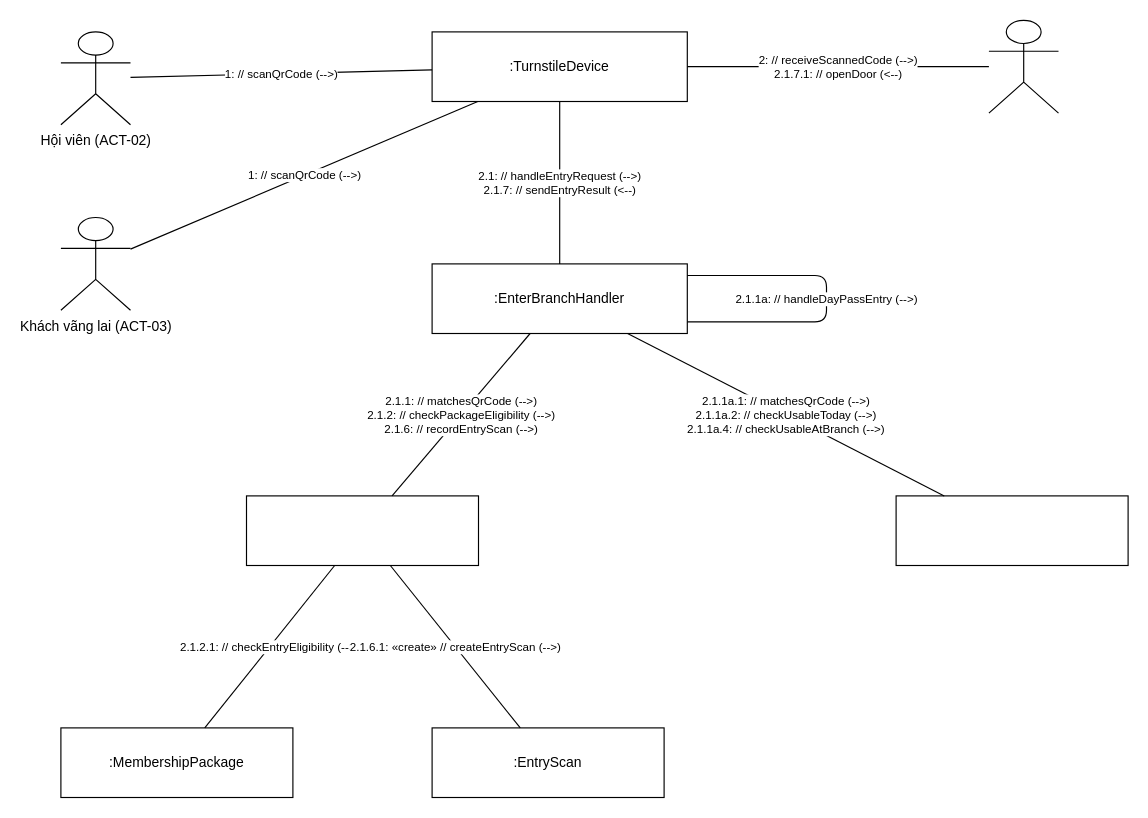
Some shapes in this 1148 by 818 pixel diagram are drawn without their labels. The shapes that lost their labels are listed below. From the top down, each one's centre as x and y in pixels, then its label:
At (x=1023, y=66): "Cửa quay (ACT-12)".
At (x=361, y=530): ":Member".
At (x=1011, y=530): ":DayPass".
